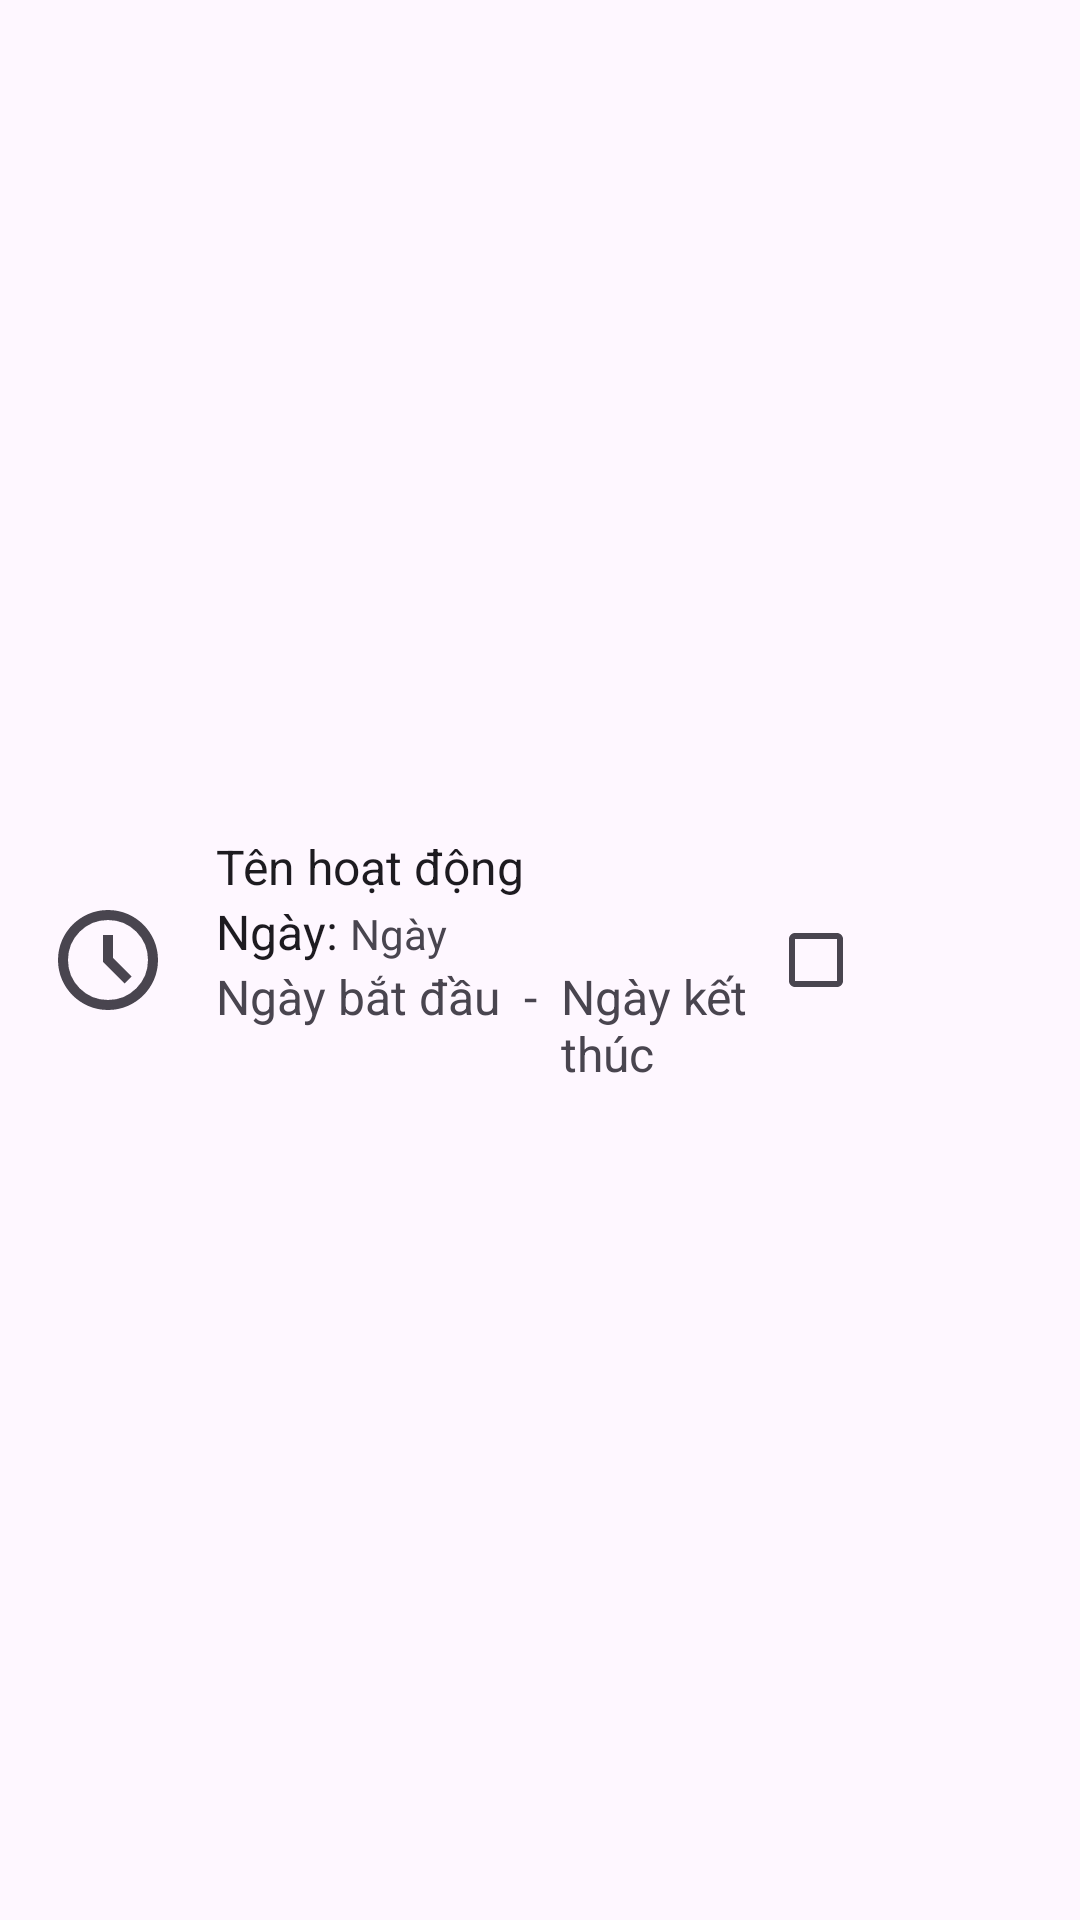

Named icons in this screenshot (1080px×1920px) and their centers, [x,y]:
schedule: [108,960]
